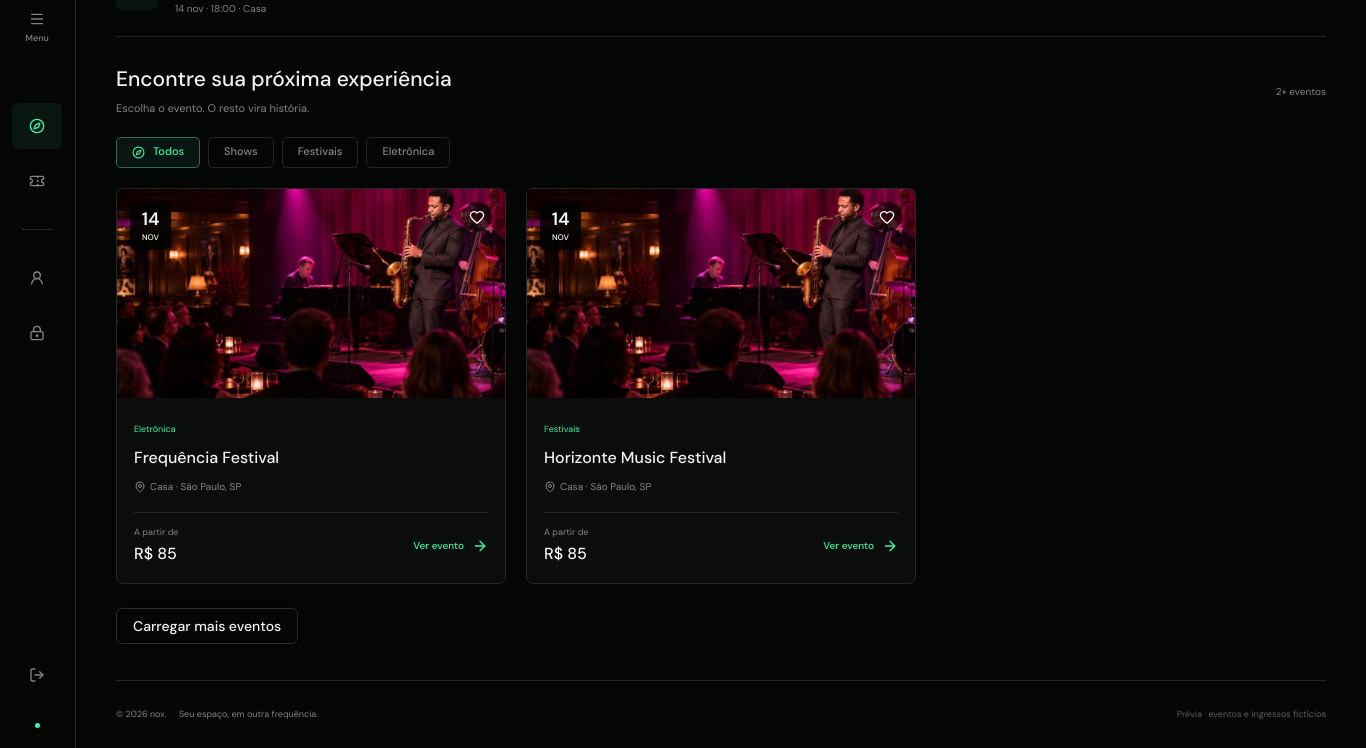
Test case: EventHome › loads the detail with tier availability and does not simulate a purchase
(page scrolled)
Click the button with aria-label "Ver ingressos de Horizonte Music Festival": (861, 546) [823, 528, 898, 564]
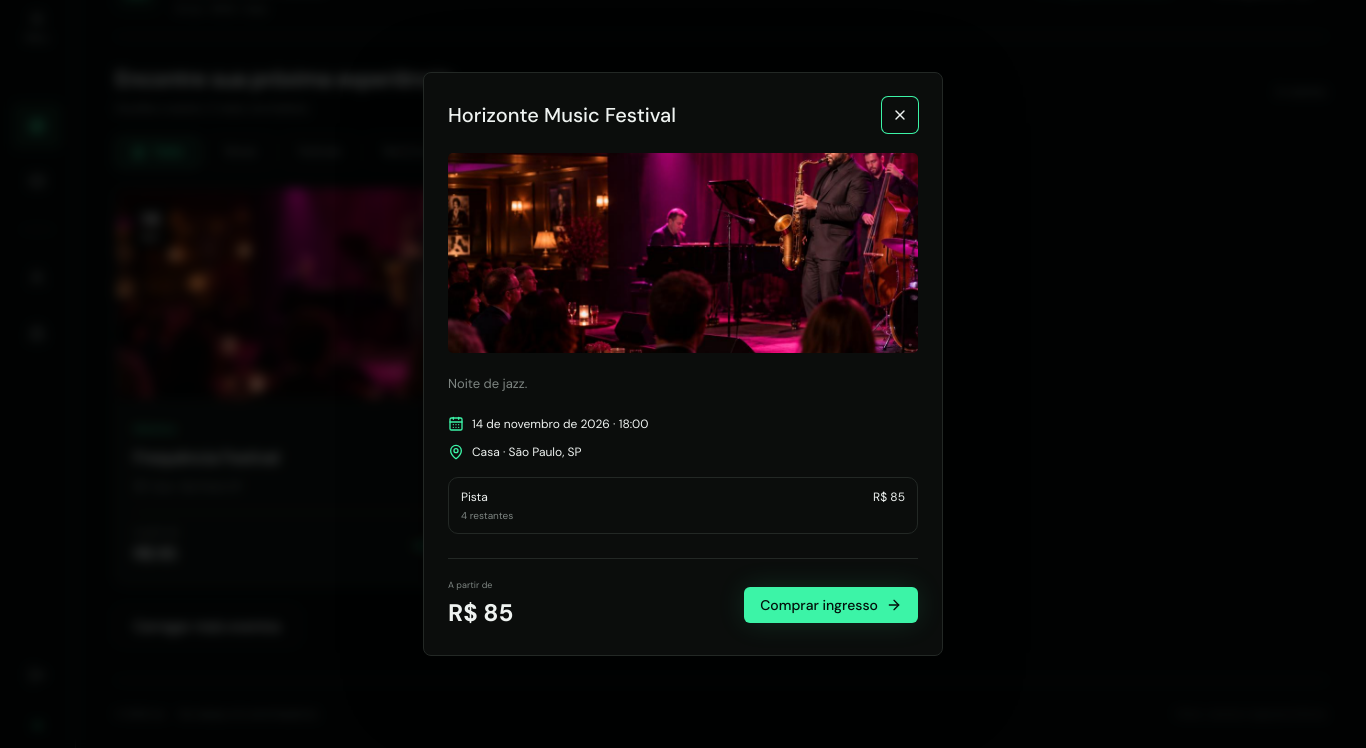
Expected: the text "4 restantes" is shown, [461, 509, 513, 522]
Click the button "Comprar ingresso": (831, 605) [744, 587, 918, 623]
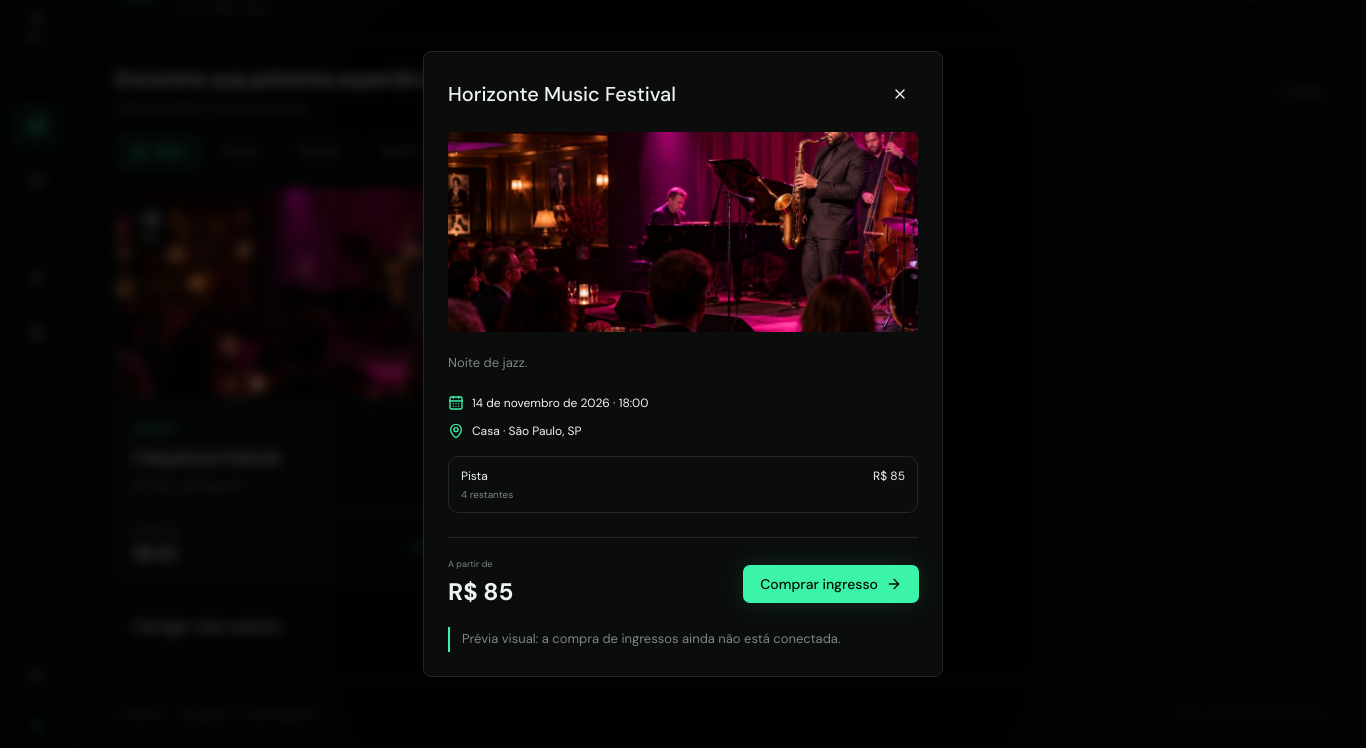
Expected: the message shows "ainda não está conectada", [462, 630, 840, 647]
